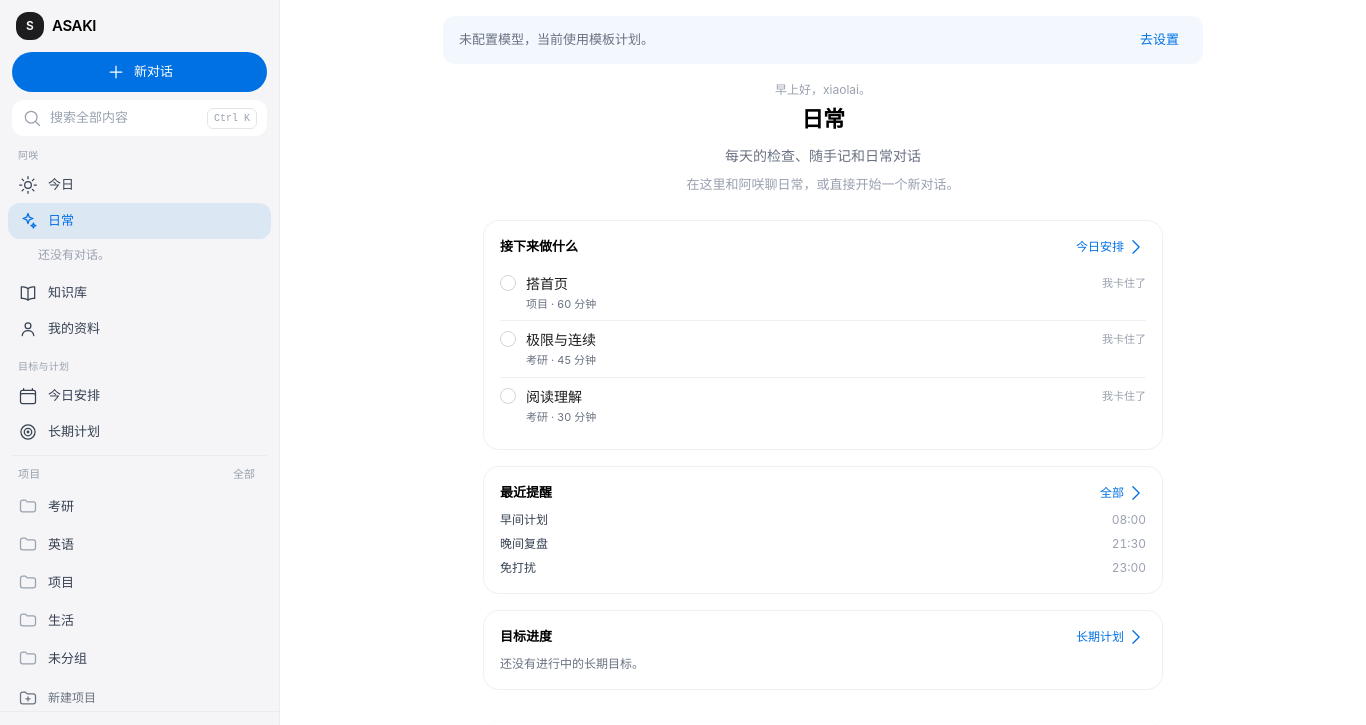
Scenario: the Today page opens with the four regions and the one-line input
Expected: the element "接下来" is shown, [483,220,1163,450]
Step 1. Click the button "今日" → (28, 185), box [8,167,271,203]
(page scrolled)
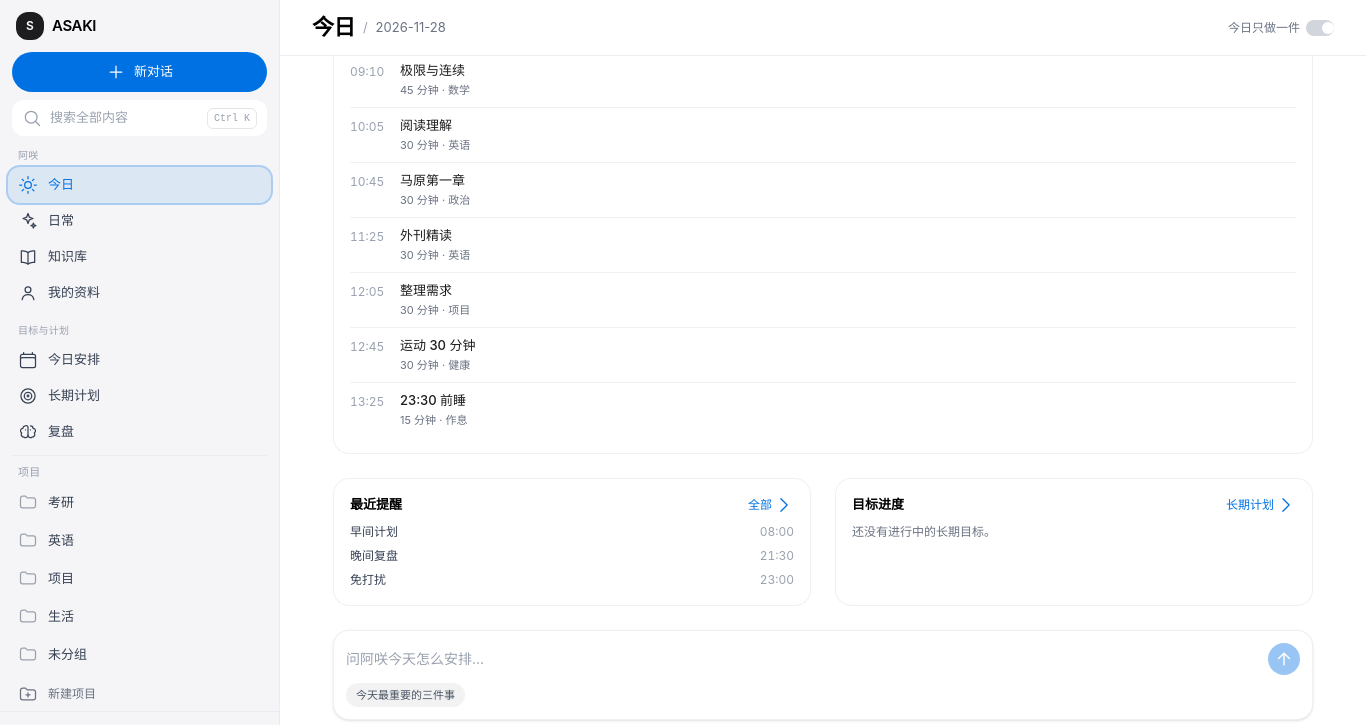
Expected: the element "最近提醒" is shown, [333,478,811,606]
Now the element "今日时间表" is shown, box [333,56,1313,454]
Now the field labelled "问阿咲今天怎么安排" is shown, box [346,644,1260,673]
